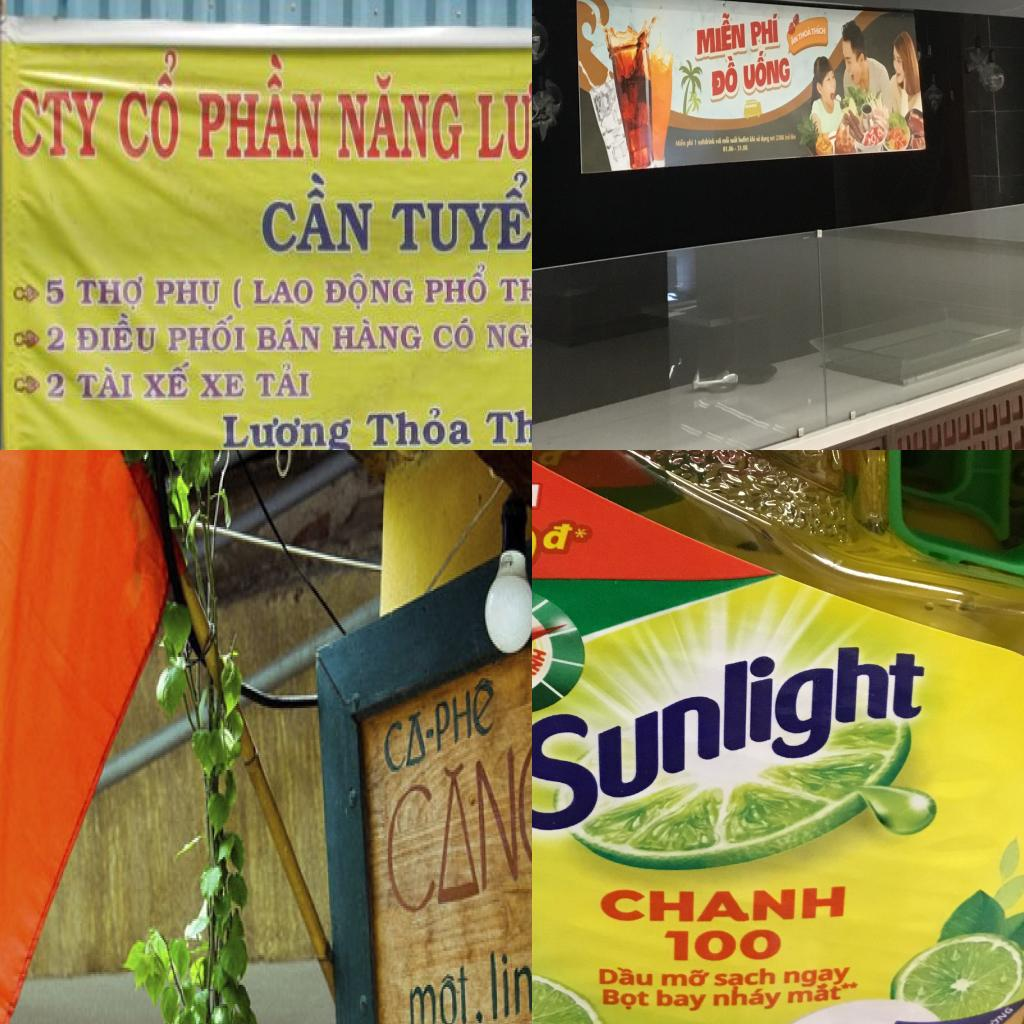text: (532, 601, 936, 849), (381, 665, 532, 927), (193, 48, 323, 163), (382, 666, 497, 780), (389, 171, 532, 259), (334, 70, 464, 166), (255, 171, 379, 260), (598, 882, 850, 925), (11, 84, 105, 164), (119, 45, 182, 161), (476, 74, 532, 178), (217, 408, 353, 450), (404, 957, 485, 1024), (359, 406, 472, 450), (661, 927, 787, 963), (486, 929, 532, 1024), (322, 272, 416, 312), (72, 311, 158, 354), (166, 311, 248, 355), (330, 316, 424, 352), (422, 262, 490, 308), (148, 272, 222, 314), (76, 272, 147, 314), (254, 316, 324, 354), (137, 357, 194, 402), (482, 401, 532, 450), (695, 11, 746, 57), (251, 274, 316, 310), (255, 362, 312, 402), (742, 46, 791, 92), (77, 366, 135, 403), (481, 314, 532, 355), (710, 986, 784, 1012), (712, 965, 782, 992), (532, 646, 563, 705), (430, 314, 475, 354), (780, 964, 854, 986), (784, 980, 846, 1006), (495, 264, 532, 307), (199, 369, 247, 401), (596, 964, 655, 988), (654, 988, 710, 1013), (539, 516, 575, 553), (710, 53, 738, 98), (599, 988, 650, 1012), (660, 967, 712, 989), (749, 12, 779, 48), (967, 1003, 1018, 1024), (42, 320, 70, 354), (42, 272, 67, 308), (45, 366, 67, 402), (532, 450, 572, 469), (230, 273, 244, 313), (570, 525, 592, 542), (798, 26, 812, 43), (811, 24, 826, 37), (698, 137, 716, 147), (840, 981, 858, 991), (789, 32, 799, 46), (760, 134, 770, 145), (738, 135, 750, 144), (722, 144, 735, 152), (675, 138, 686, 147), (736, 144, 748, 152), (730, 135, 738, 144), (687, 138, 694, 148), (775, 134, 785, 141), (722, 136, 730, 144), (715, 137, 722, 145), (749, 135, 756, 143), (790, 133, 797, 141), (784, 133, 790, 141), (770, 134, 775, 143), (756, 134, 760, 143), (694, 139, 697, 146)
